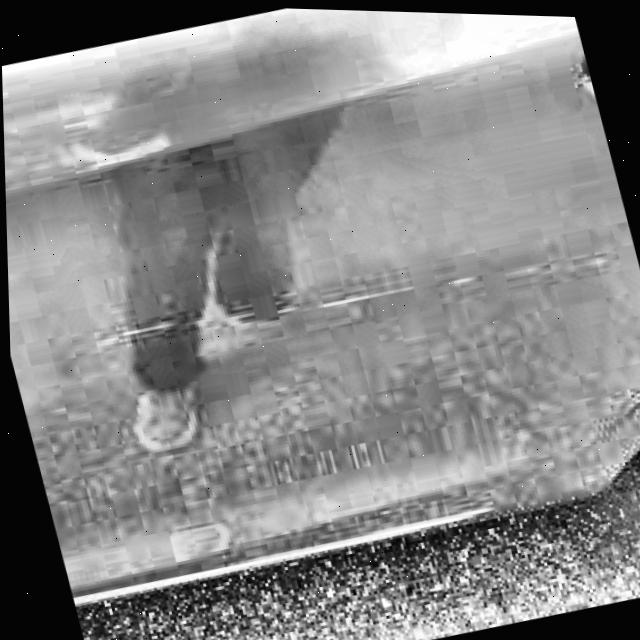door_scratch: (94, 194, 640, 389)
